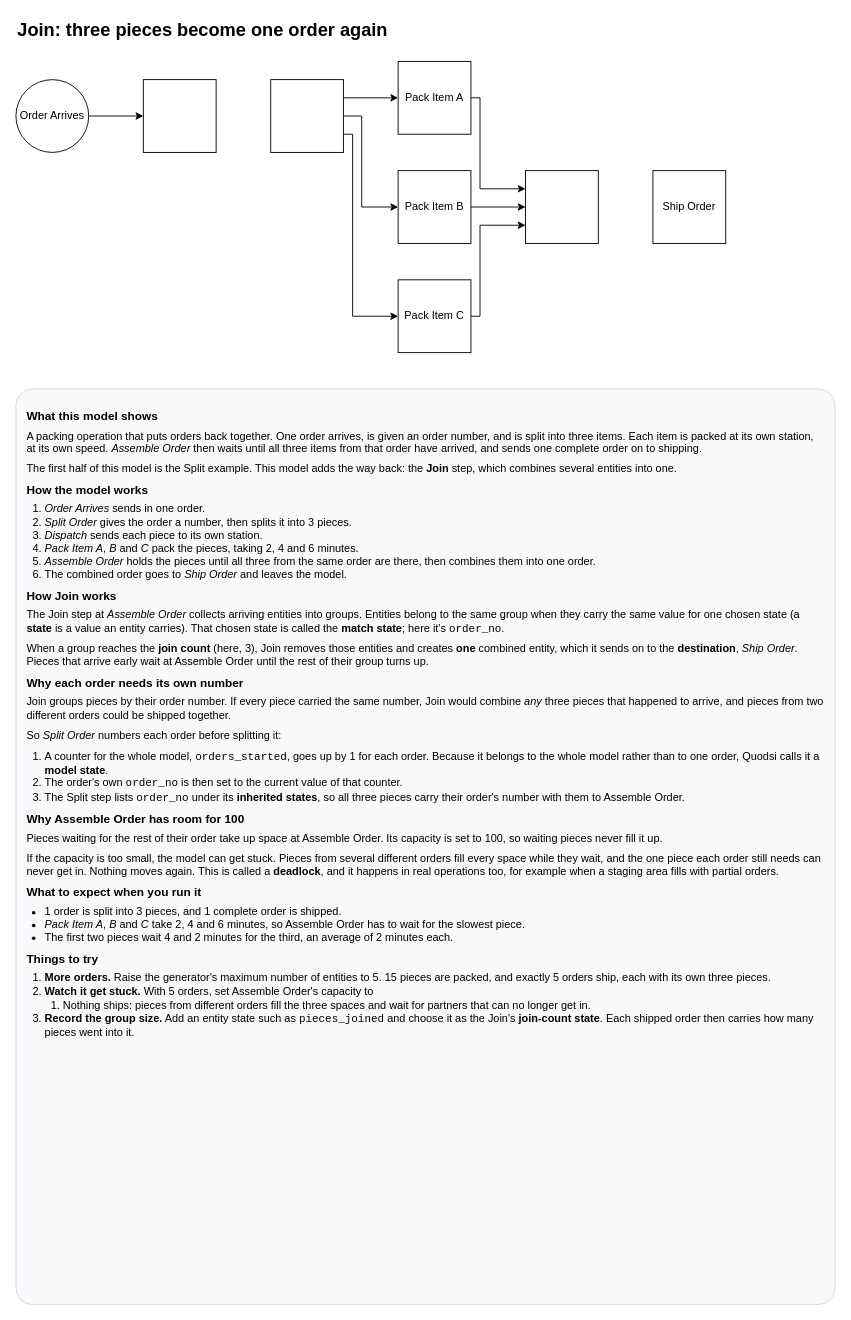
Some shapes in this 851 by 1320 pixel diagram are drawn without their labels. The shapes that lost their labels are listed below. From the top down, each one's centre as x and y in pixels, then its label:
(x=179, y=115): Split Order
(x=307, y=115): Dispatch
(x=561, y=206): Assemble Order
